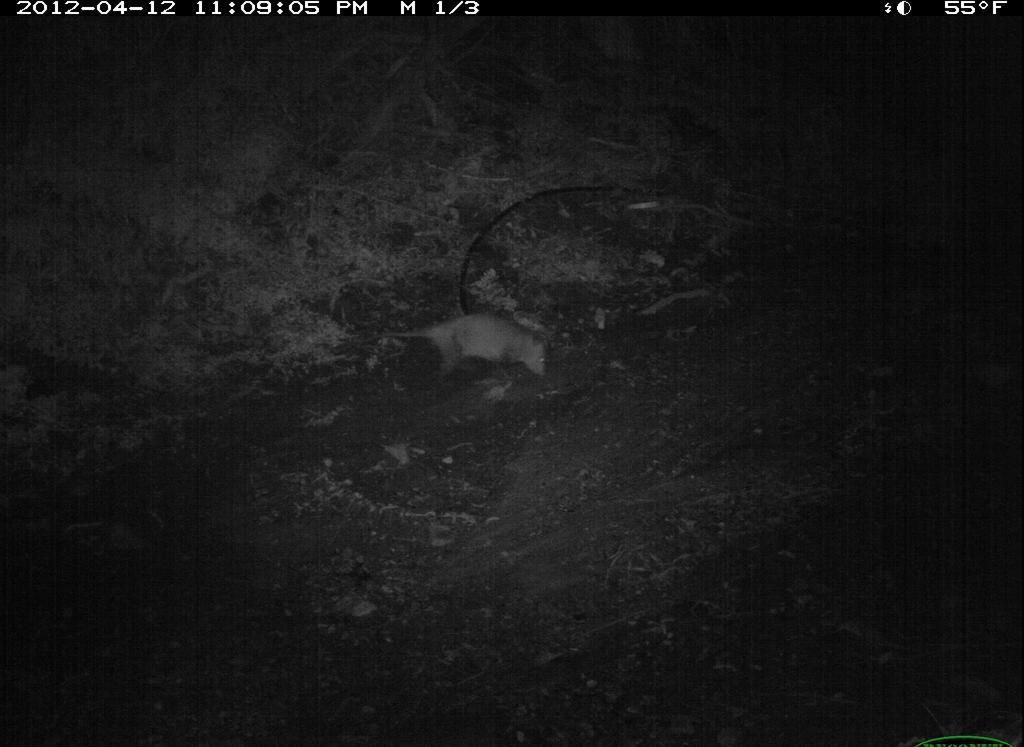opossum: (381, 304, 553, 387)
